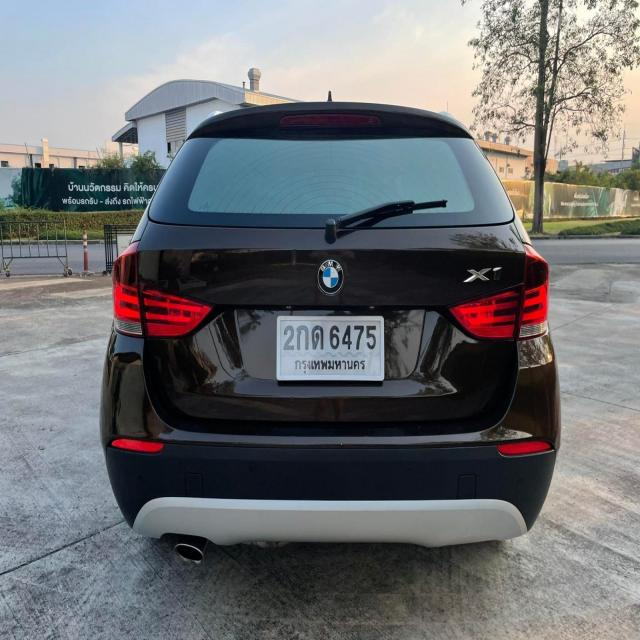license_plate: (275, 313, 386, 385)
